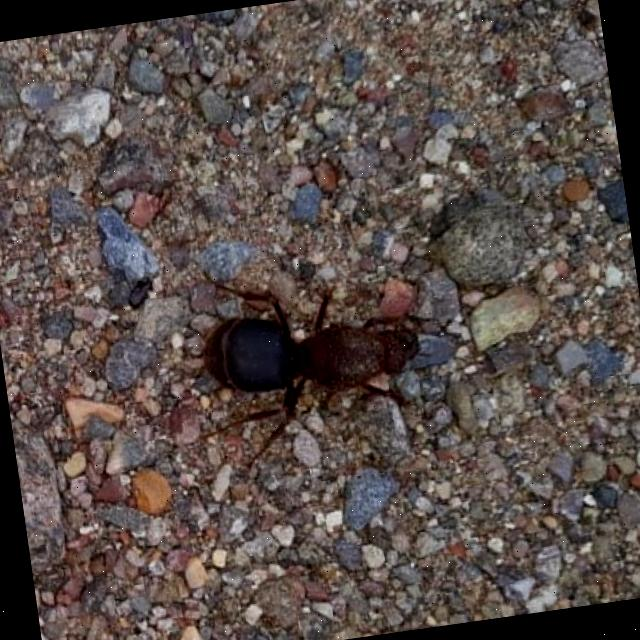Alive-Female-Dealate: (174, 227, 458, 472)
